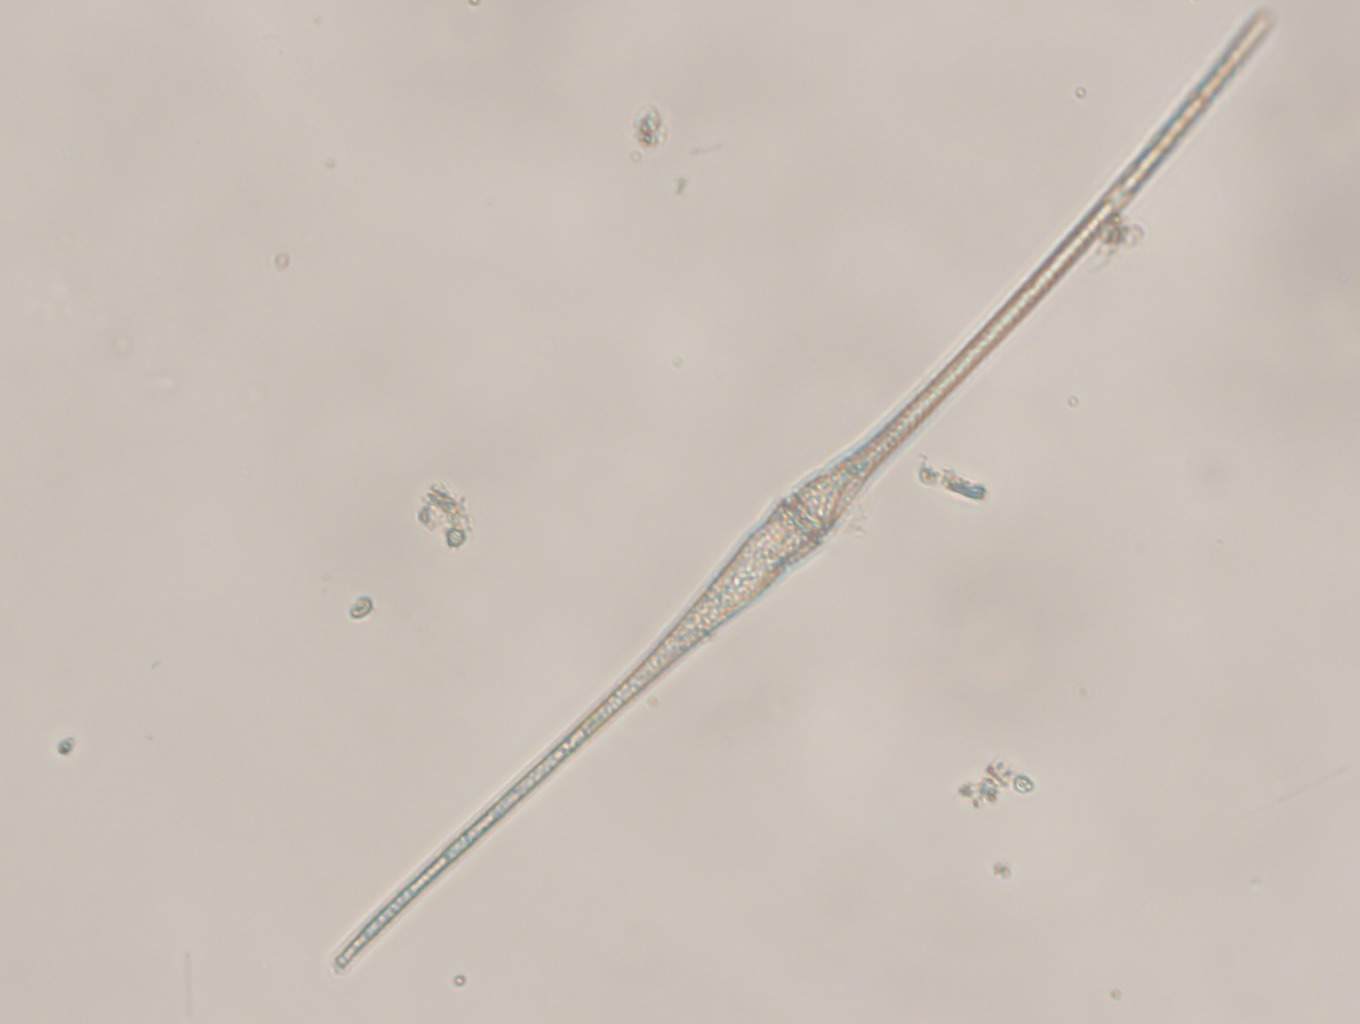ceratium fusus: (330, 3, 1285, 979)
